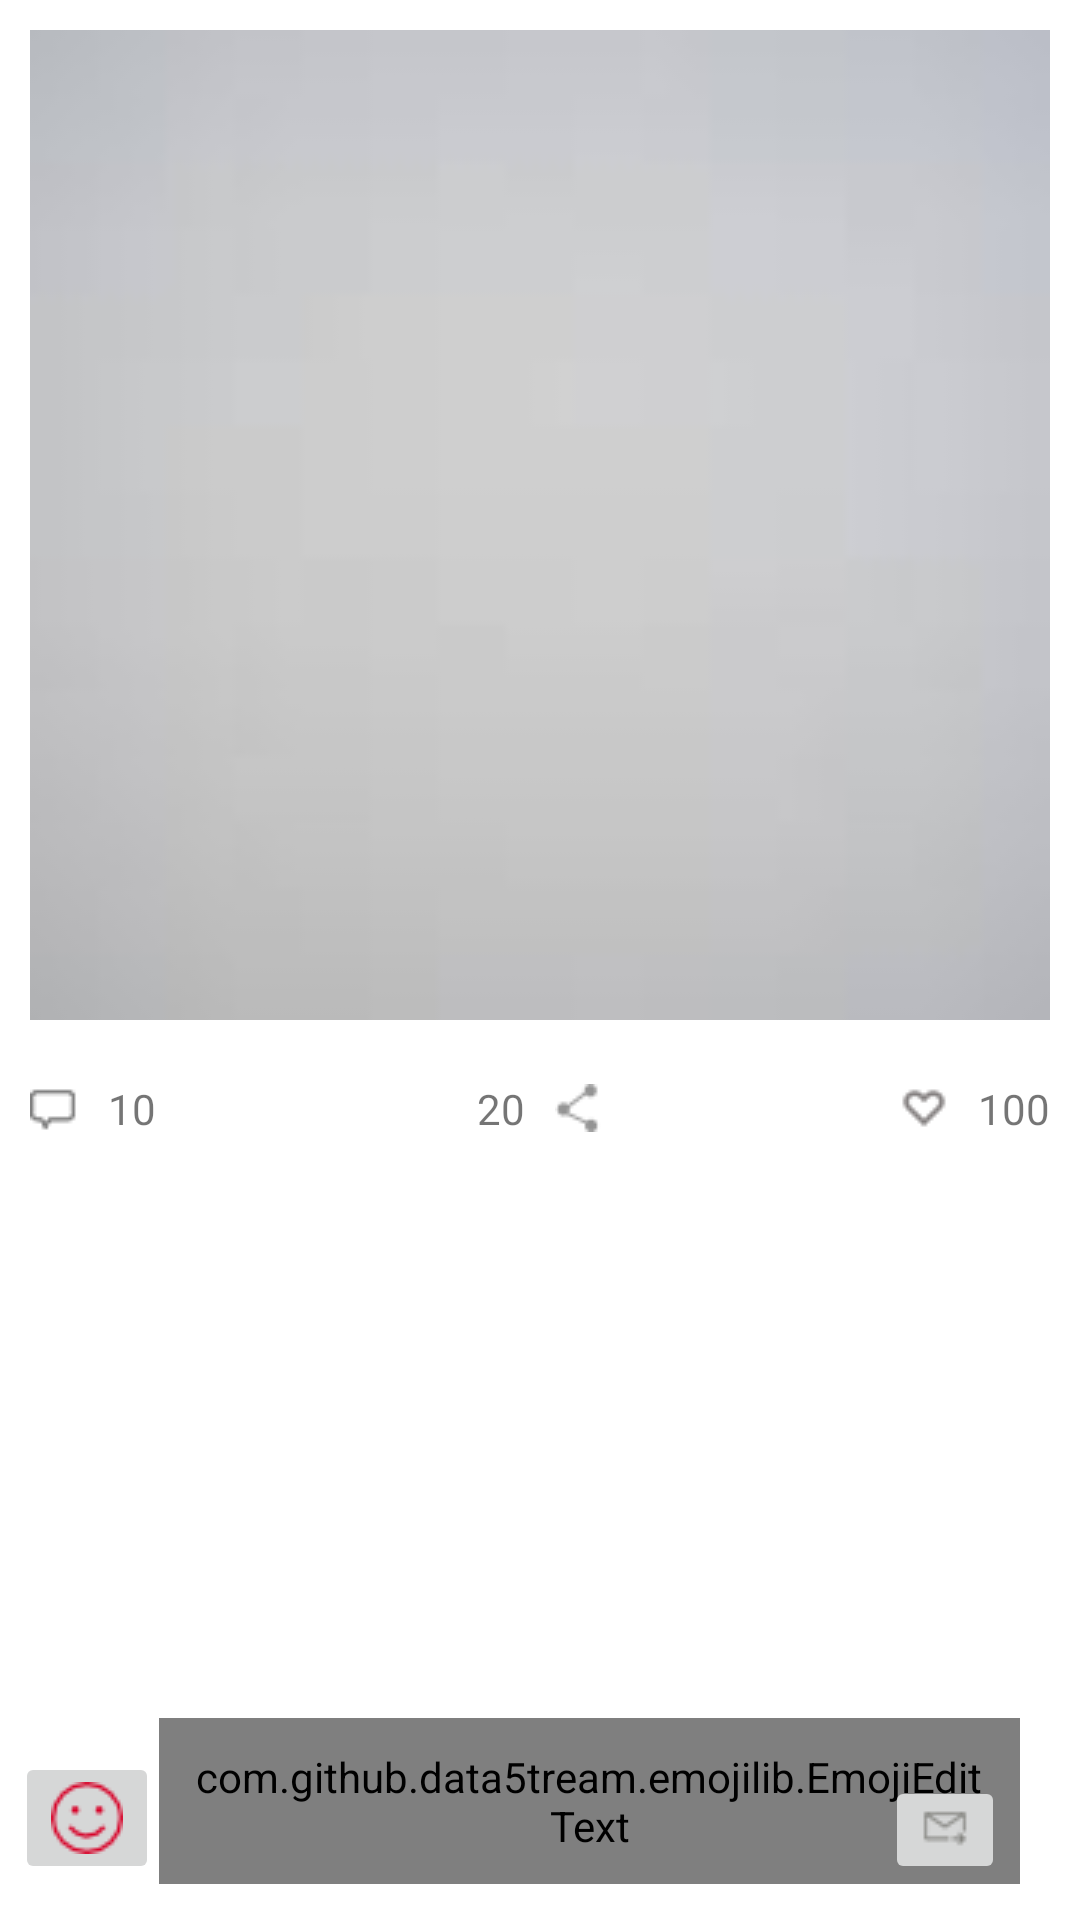

Icon click points for this 1080w x 1920h phone screenshot, format (x,y):
happiness: (87,1818)
send: (939,1821)
